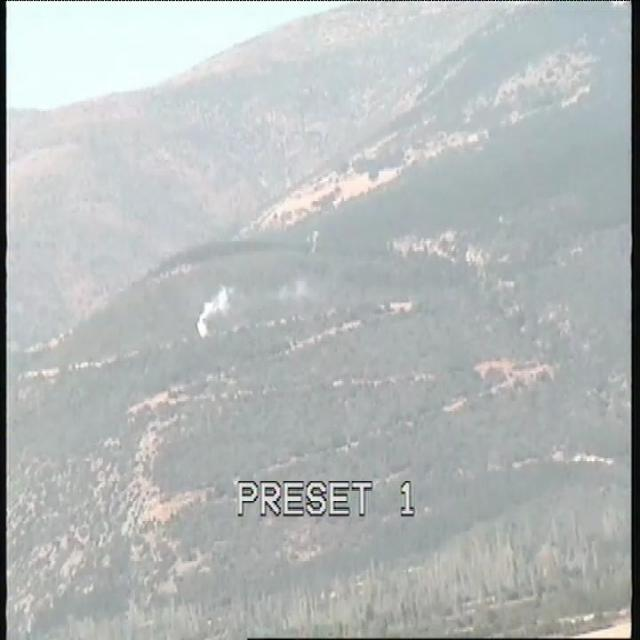smoke: (193, 281, 234, 338)
